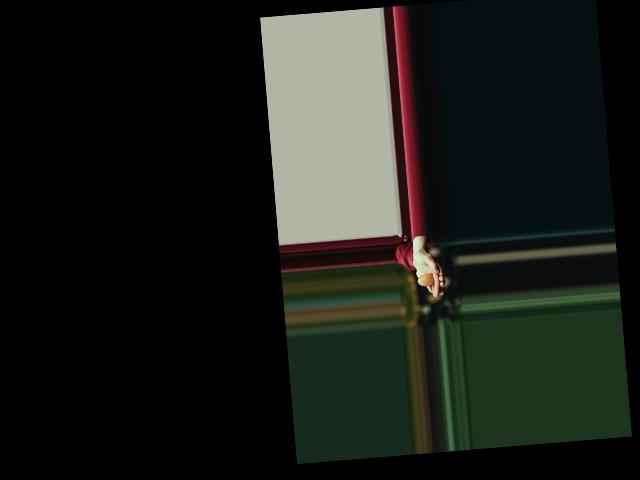egg: (417, 273, 434, 286)
